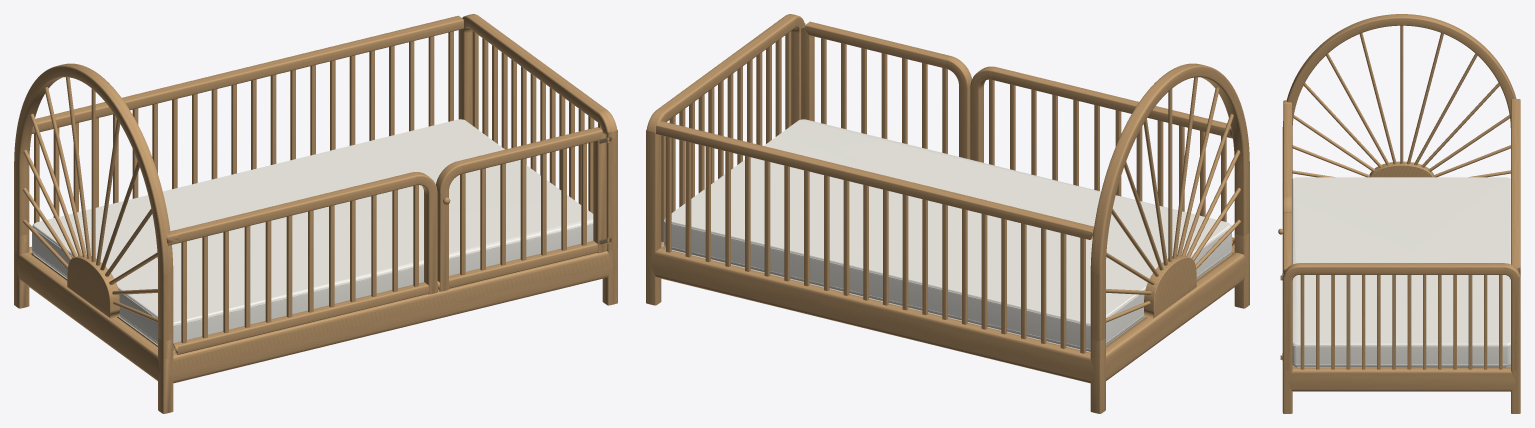
Rendered from tootoo1_oak_baby.glb.
3 views of the same model, side by side, from view 1: azimuth 30°, elevation 25°; view 2: azimuth 150°, elevation 25°; view 3: azimuth 270°, elevation 25° (orthographic). The views are drawn at different scales.
Parts seen in each view (by area): view 1: Fitted ivory mattress covering bed deck 2000 x 1110 x 130 mm, Long oak base rail, Refined continuous vaulted head H1250 W1200, Rear safety rail L2000, Foot frame H820 W1200, Front partial guard L1200 opening780, End base rail, Rounded solid oak leg (×4), Baby hinged gate rounded upper and latch stile, Front guard lower rail, Low flattened sun hub with softened edge, Baby gate lower rail (+37 smaller); view 2: Fitted ivory mattress covering bed deck 2000 x 1110 x 130 mm, Long oak base rail, Refined continuous vaulted head H1250 W1200, Rear safety rail L2000, Rounded solid oak leg (×4), Foot frame H820 W1200, End base rail, Front partial guard L1200 opening780, Baby hinged gate rounded upper and latch stile, Low flattened sun hub with softened edge, Baby gate hinge stile, Round sunburst ray 07 (+36 smaller); view 3: Fitted ivory mattress covering bed deck 2000 x 1110 x 130 mm, End base rail, Foot frame H820 W1200, Refined continuous vaulted head H1250 W1200, Rounded solid oak leg (×2), Rear safety rail L2000, Front partial guard L1200 opening780, Low flattened sun hub with softened edge, Baby hinged gate rounded upper and latch stile, Round sunburst ray 07, Round sunburst ray 06, Round sunburst ray 08 (+22 smaller).
Boxes of the visible parts, bbox=[...] form: Fitted ivory mattress covering bed deck 2000 x 1110 x 130 mm: bbox=[32, 119, 593, 345]; Long oak base rail: bbox=[169, 251, 613, 383]; Refined continuous vaulted head H1250 W1200: bbox=[14, 63, 173, 359]; Rear safety rail L2000: bbox=[31, 15, 463, 133]; Foot frame H820 W1200: bbox=[458, 14, 617, 250]; Front partial guard L1200 opening780: bbox=[173, 172, 437, 294]; End base rail: bbox=[16, 252, 160, 380]; Rounded solid oak leg (×4): bbox=[14, 29, 617, 413]; Baby hinged gate rounded upper and latch stile: bbox=[436, 127, 602, 291]; Front guard lower rail: bbox=[173, 282, 438, 354]; Low flattened sun hub with softened edge: bbox=[67, 255, 119, 318]; Baby gate lower rail: bbox=[437, 241, 607, 290]; Fitted ivory mattress covering bed deck 2000 x 1110 x 130 mm: bbox=[664, 119, 1231, 352]; Long oak base rail: bbox=[650, 248, 1094, 383]; Refined continuous vaulted head H1250 W1200: bbox=[1090, 63, 1249, 359]; Rear safety rail L2000: bbox=[656, 121, 1093, 239]; Rounded solid oak leg (×4): bbox=[646, 23, 1249, 413]; Foot frame H820 W1200: bbox=[646, 14, 804, 250]; End base rail: bbox=[1103, 252, 1247, 380]; Front partial guard L1200 opening780: bbox=[970, 66, 1230, 162]; Baby hinged gate rounded upper and latch stile: bbox=[805, 21, 971, 159]; Low flattened sun hub with softened edge: bbox=[1144, 255, 1196, 318]; Baby gate hinge stile: bbox=[801, 25, 814, 121]; Round sunburst ray 07: bbox=[1168, 89, 1172, 261]; Fitted ivory mattress covering bed deck 2000 x 1110 x 130 mm: bbox=[1292, 177, 1510, 367]; End base rail: bbox=[1287, 367, 1515, 391]; Foot frame H820 W1200: bbox=[1282, 263, 1520, 370]; Refined continuous vaulted head H1250 W1200: bbox=[1282, 14, 1516, 183]; Rounded solid oak leg (×2): bbox=[1282, 273, 1520, 413]; Rear safety rail L2000: bbox=[1511, 98, 1520, 273]; Front partial guard L1200 opening780: bbox=[1283, 104, 1292, 215]; Low flattened sun hub with softened edge: bbox=[1369, 161, 1433, 177]; Baby hinged gate rounded upper and latch stile: bbox=[1283, 212, 1292, 272]; Round sunburst ray 07: bbox=[1400, 25, 1403, 163]; Round sunburst ray 06: bbox=[1359, 33, 1396, 164]; Round sunburst ray 08: bbox=[1407, 33, 1443, 164].
Bounding box in the file's own units: 2.1 × 1.25 × 1.22.
Materials: 3 (1 with a texture image).
